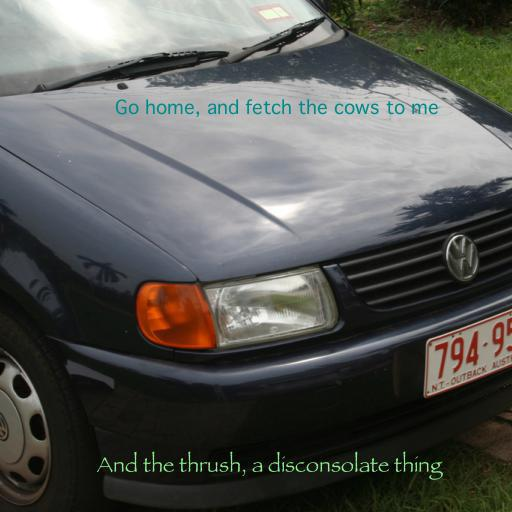Geneva: (115, 99, 439, 118)
Papyrus: (96, 451, 442, 480)
